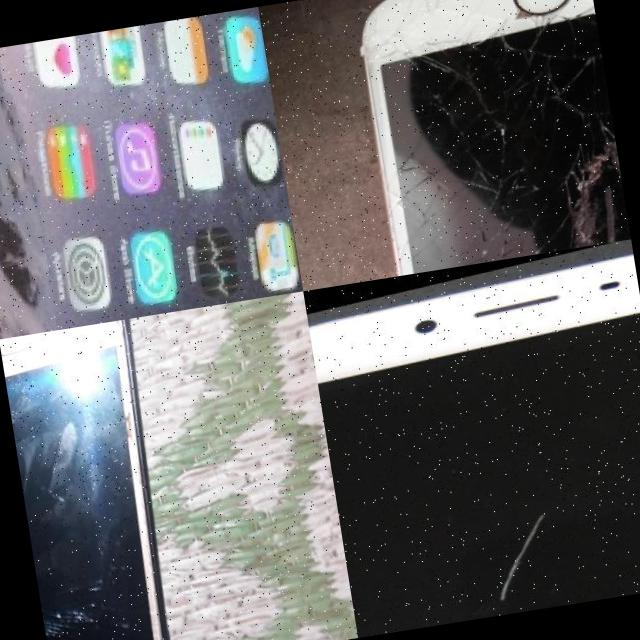scratch: (473, 493, 573, 599), (33, 546, 110, 640)
screen crack: (357, 0, 631, 275), (96, 379, 148, 466)
